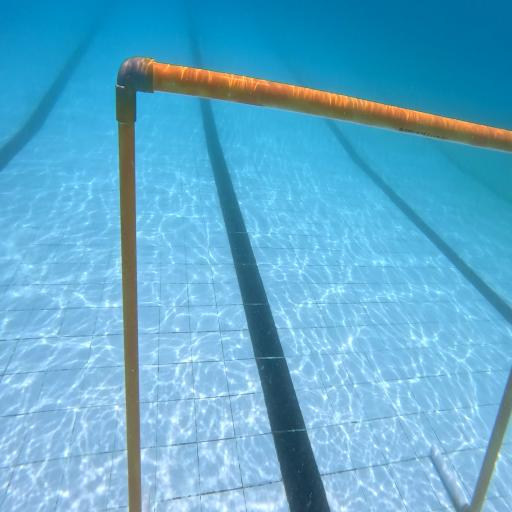gate: (115, 55, 512, 512)
